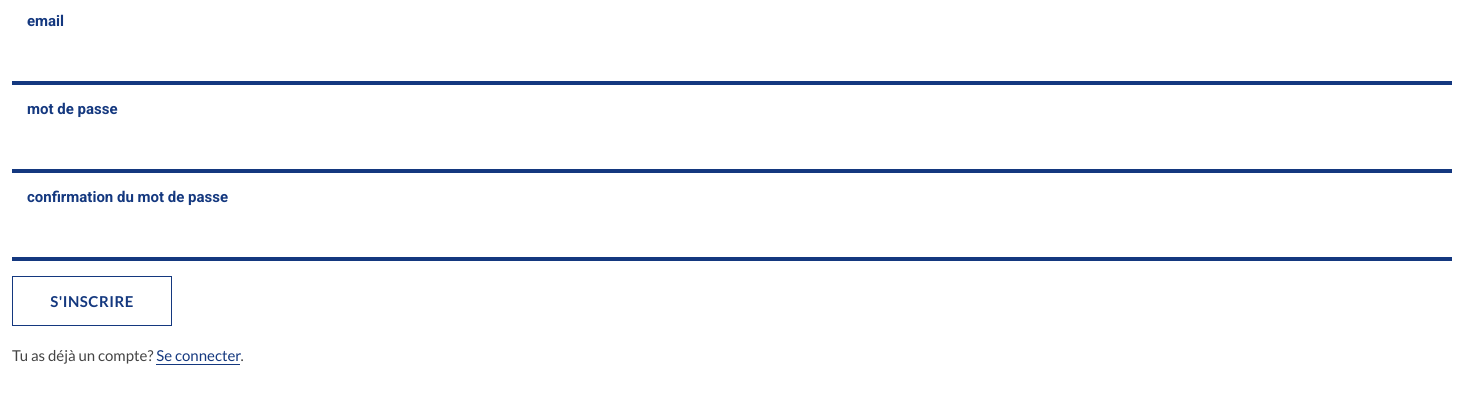
Test case: Register Form › with invalid email
The width and height of the screenshot is (1464, 407).
Type "notvalid" into the field labelled "email" at [732, 60], box [12, 35, 1452, 85]
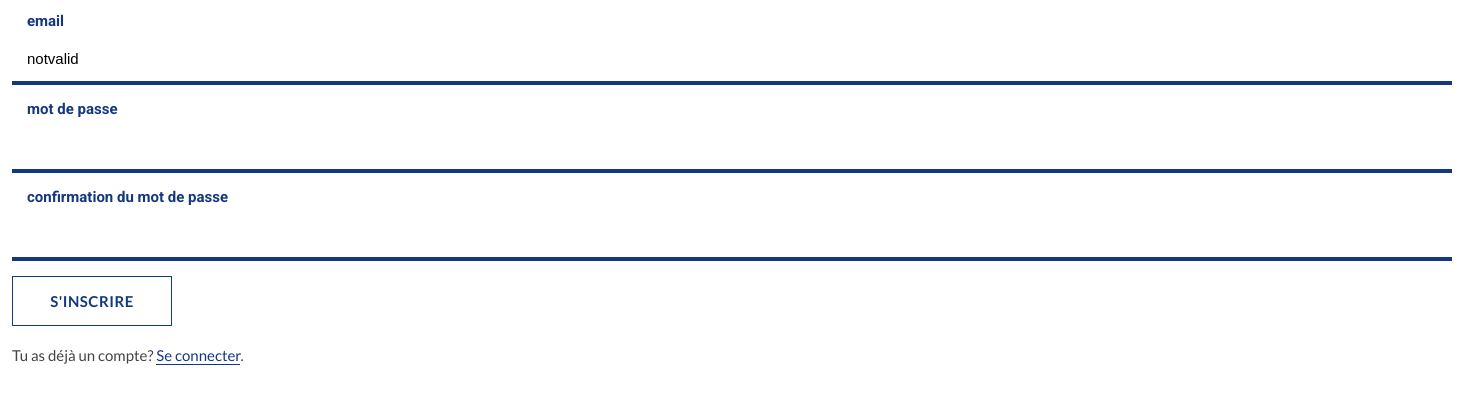
Leave the field labelled "email", box [12, 35, 1452, 85]
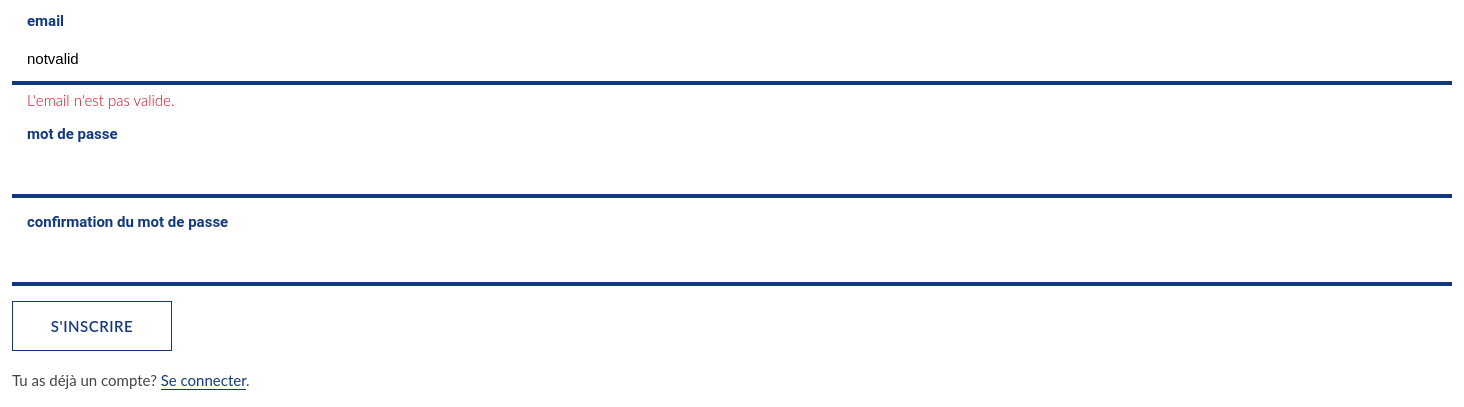
Expected: the text "L'email n'est pas valide." is shown, [27, 91, 174, 109]
